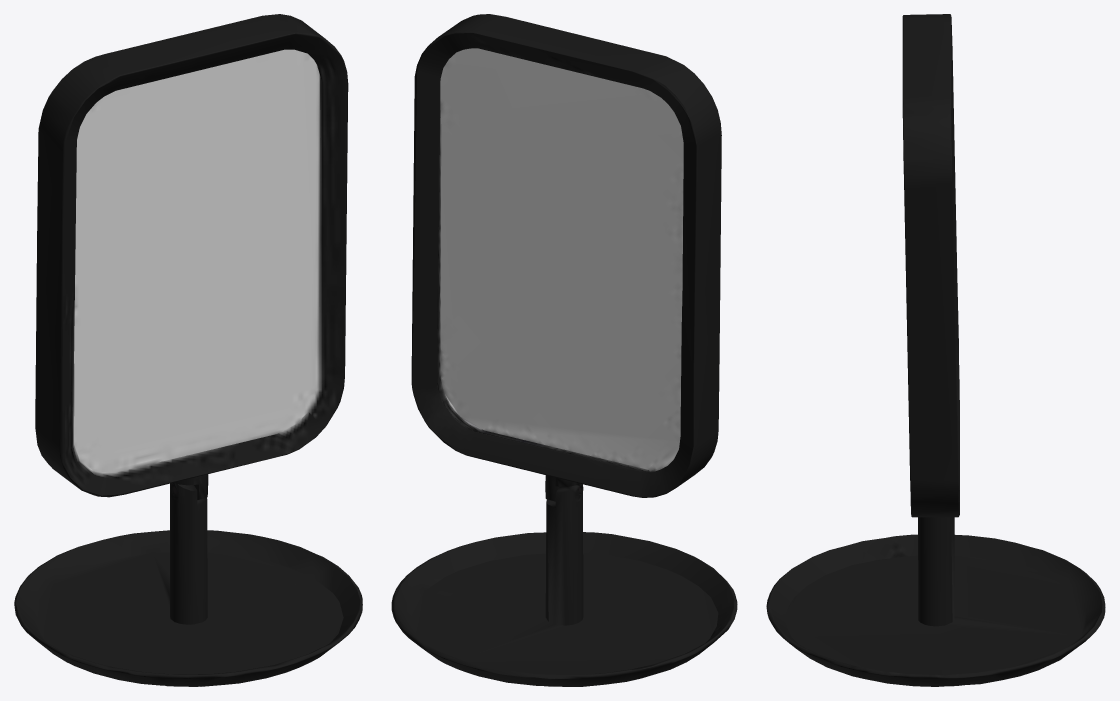
File: 06 - LINDBYN - 桌鏡，黑色，14x27 公分 IKEA 線上購物.glb
3 views of the same model, side by side, from view 1: azimuth 30°, elevation 25°; view 2: azimuth 150°, elevation 25°; view 3: azimuth 270°, elevation 25° (orthographic). The views are drawn at different scales.
Visible parts, largest first — view 1: ProcessedMeshNode; view 2: ProcessedMeshNode; view 3: ProcessedMeshNode.
Boxes of the visible parts, box(x1,y1,x2,y2) form: ProcessedMeshNode: box(14, 14, 362, 686); ProcessedMeshNode: box(391, 14, 737, 686); ProcessedMeshNode: box(766, 14, 1105, 686).
Size of the model in its own units: 0.1502 by 0.2767 by 0.15.
1 material, 1 textured.
